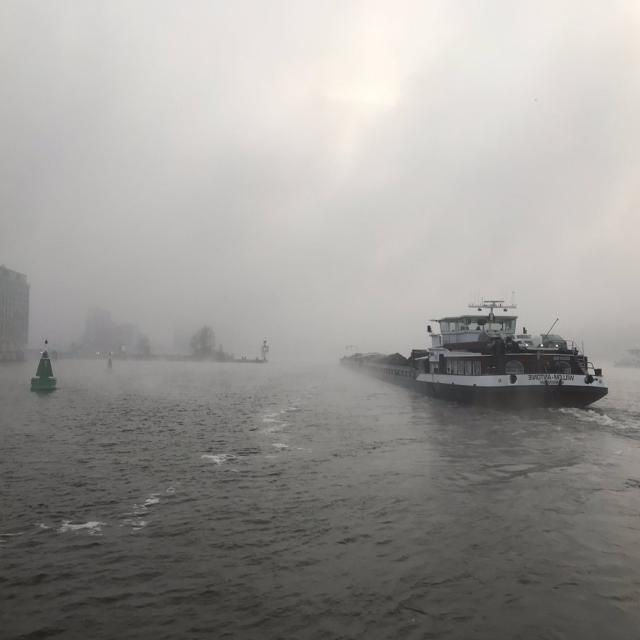buoy: (28, 337, 61, 392), (101, 350, 118, 380)
fishing boat: (336, 302, 610, 399)
